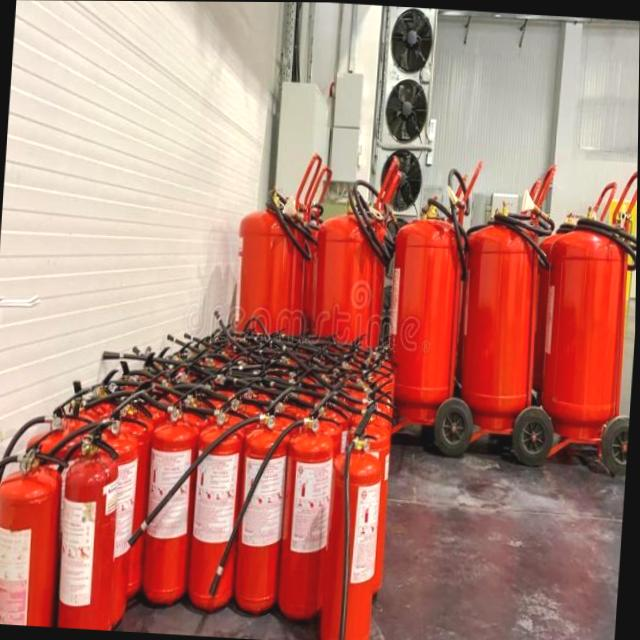FireExtinguisher: (123, 370, 306, 612), (210, 379, 349, 640), (449, 196, 565, 445), (531, 198, 638, 453), (302, 186, 402, 439), (221, 192, 323, 438), (377, 188, 479, 431), (60, 384, 154, 626), (170, 365, 254, 610), (315, 400, 397, 640), (129, 376, 209, 614), (48, 411, 126, 630), (0, 413, 71, 626)
